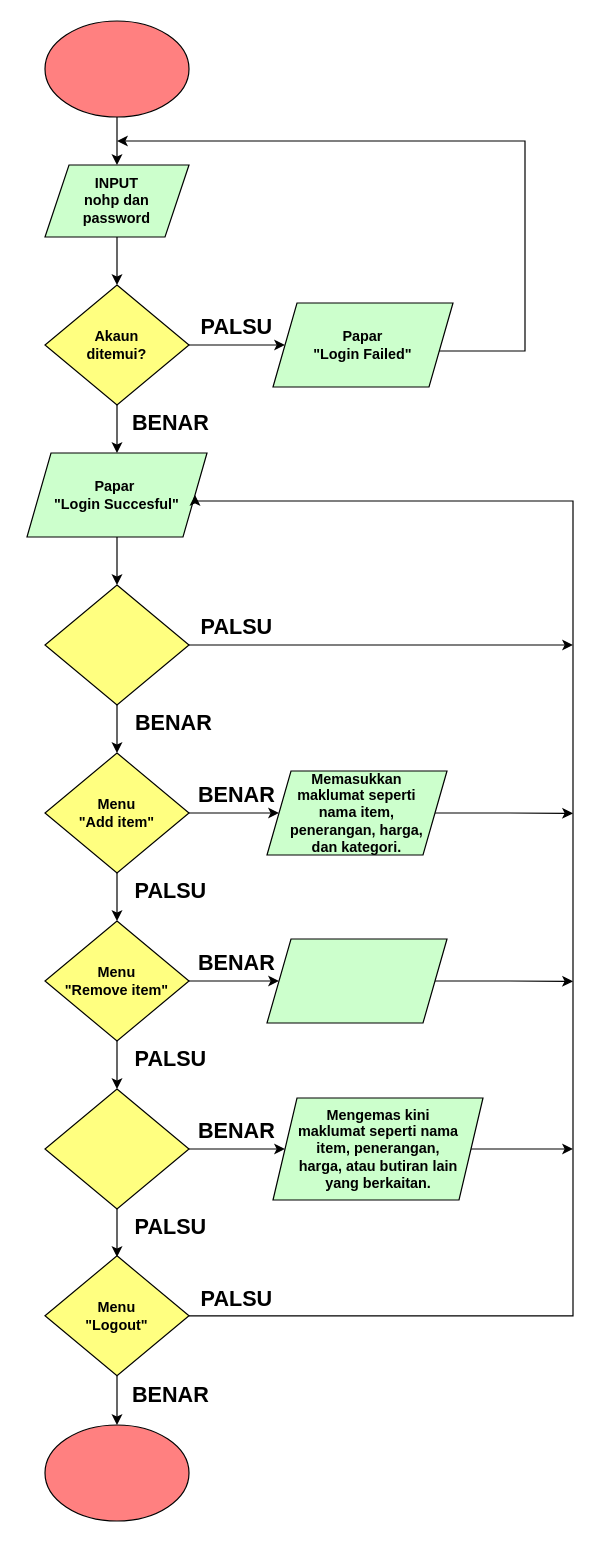
This 604x1542 diagram has some shape labels left out. Here are the shapes that lost their labels. From the top down, the centre of each, then its label:
point 116,68: MULA
point 116,644: Menu "Modify"
point 356,980: Membuang item sedia ada dari menu dengan pangkalan data.
point 116,1148: Menu "Edit item"
point 116,1472: TAMAT
